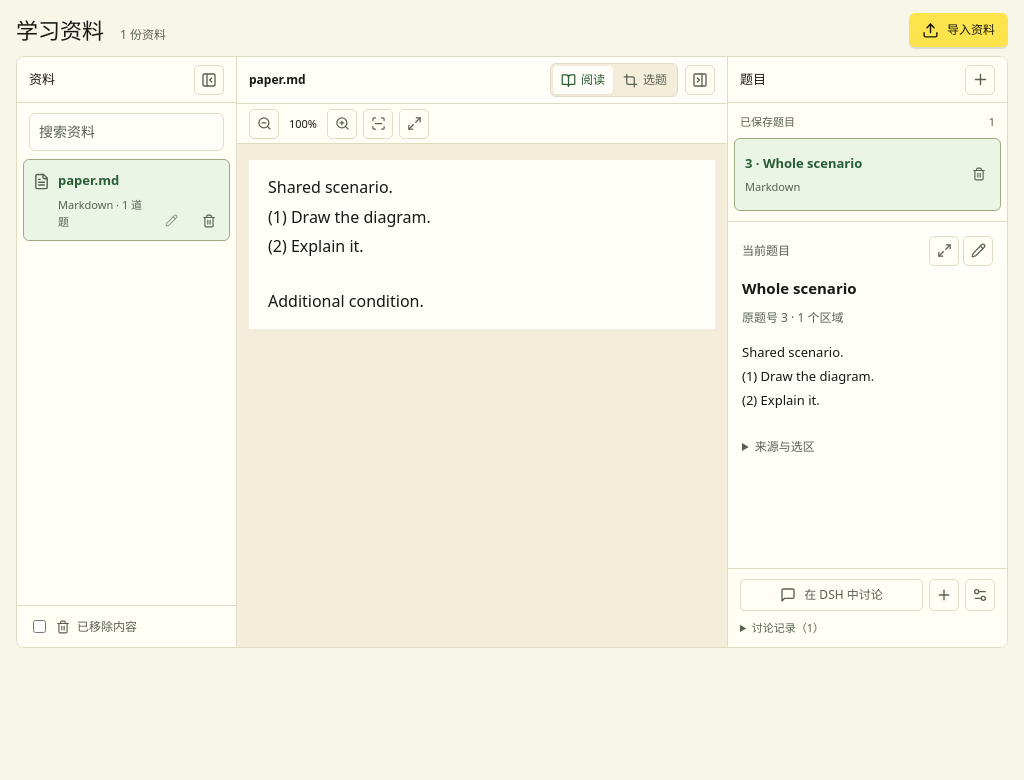
Test: uses the saved content version after changing selected regions
Click the button named "编辑题目".
click(978, 251)  # box [963, 236, 993, 266]
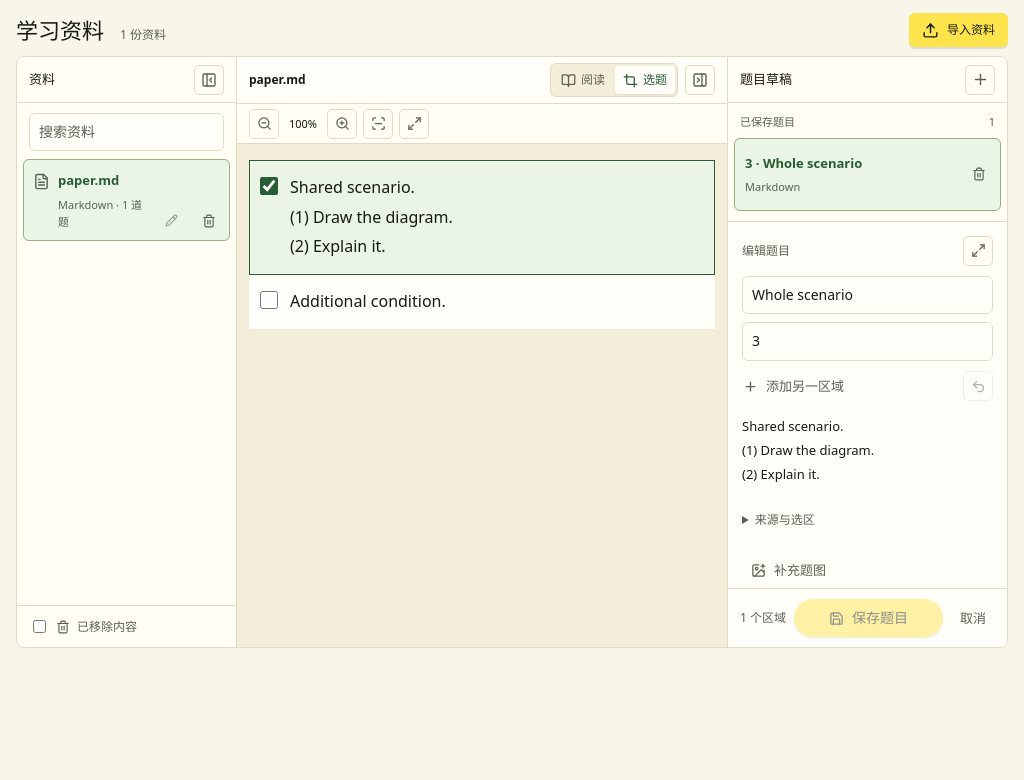
Click the element with class "study-block-check" next to "Additional condition.".
click(269, 300)  # box [260, 291, 278, 309]
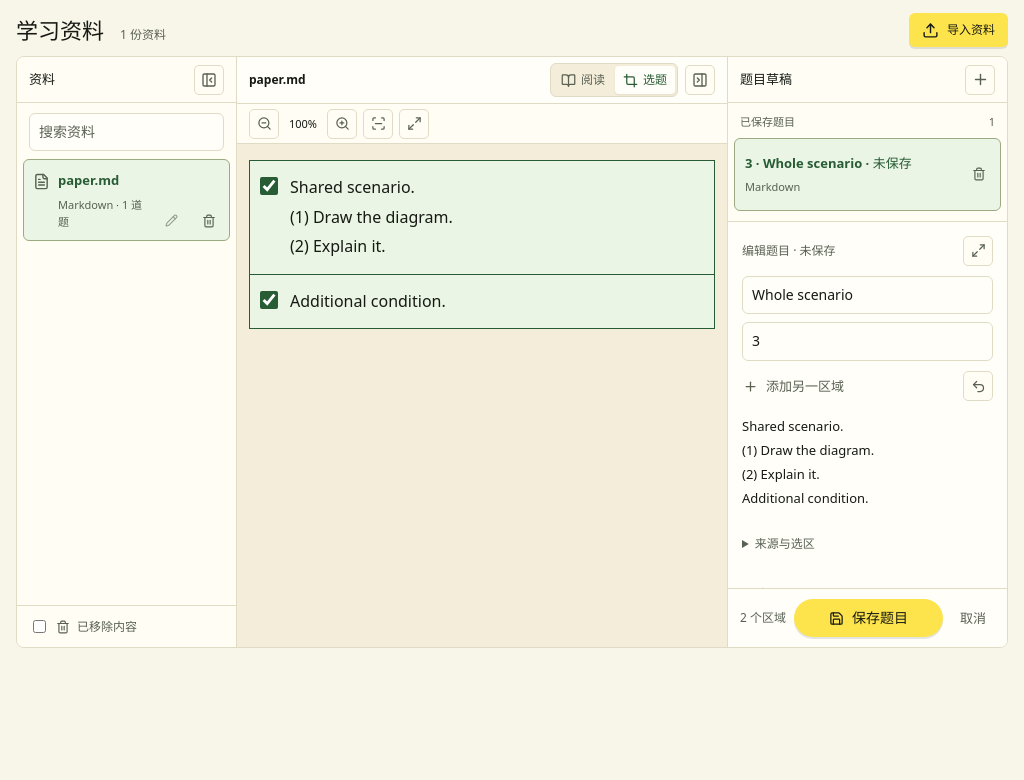
Check: the button "保存题目" is enabled
Click the button "保存题目".
click(868, 618)  # box [794, 599, 943, 637]
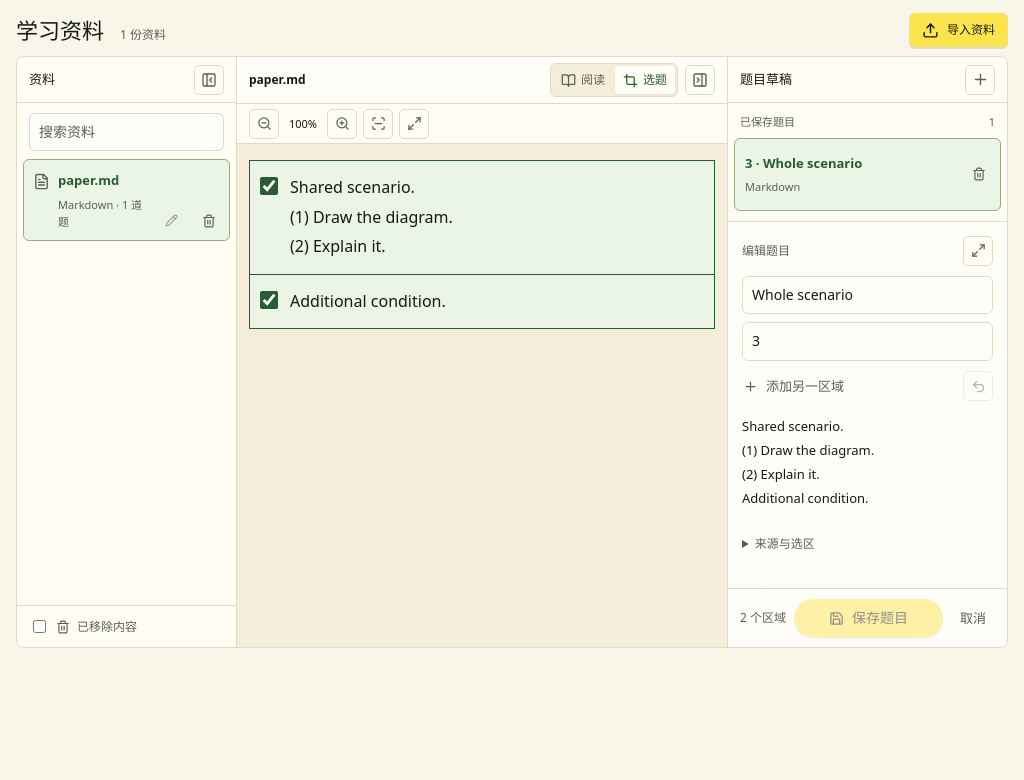
Click the button "阅读".
click(583, 80)  # box [553, 66, 613, 94]
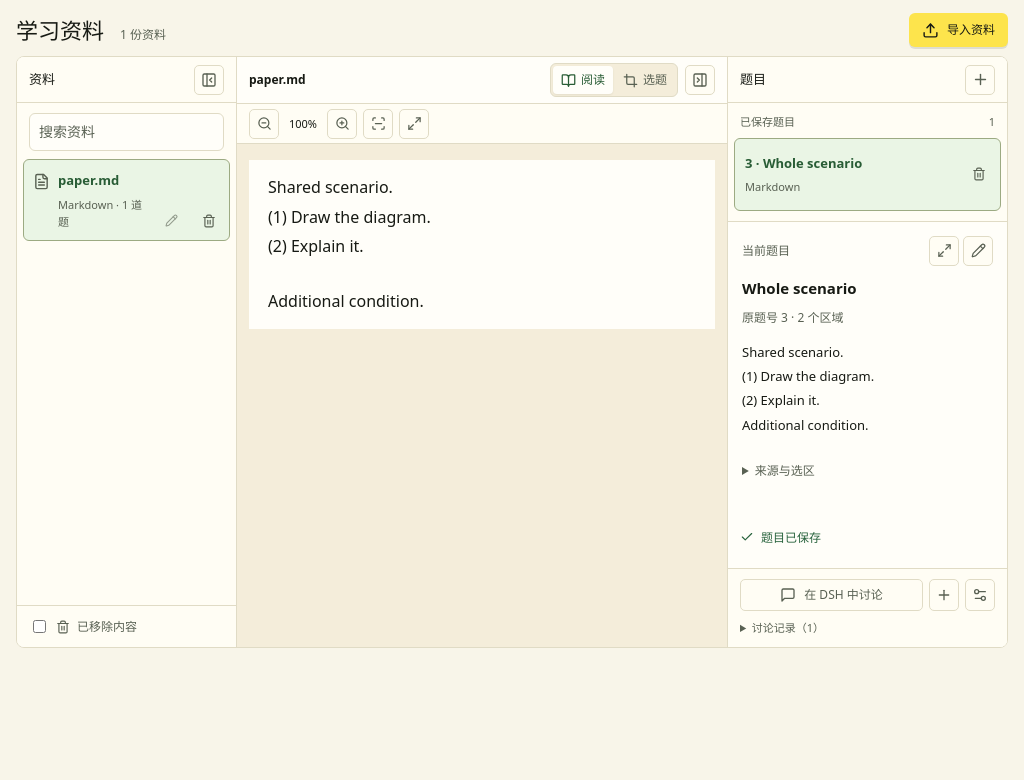
Check: the button "在 DSH 中讨论" is shown, box [740, 579, 923, 611]
